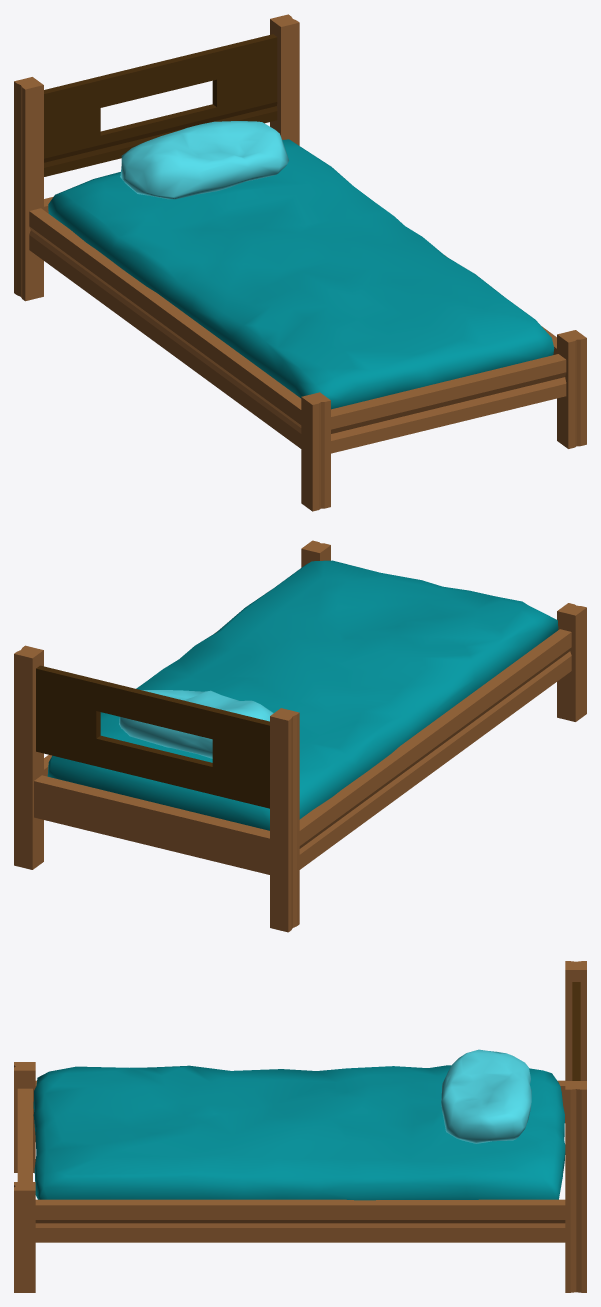
Rendered from bed.glb.
3 renders of one model, top to bottom at view 1: azimuth 30°, elevation 25°; view 2: azimuth 150°, elevation 25°; view 3: azimuth 270°, elevation 25°, orthographic. The views are drawn at different scales.
Parts seen in each view (by area): view 1: Colchao-material, Armacao-material, Armacao2-material, Travesseiro-material; view 2: Colchao-material, Armacao-material, Armacao2-material, Travesseiro-material; view 3: Colchao-material, Armacao-material, Travesseiro-material, Armacao2-material.
Part boxes in pixels (x1,y1,x2,y2): Colchao-material: [48, 139, 554, 409]; Armacao-material: [14, 14, 586, 511]; Armacao2-material: [44, 34, 277, 176]; Travesseiro-material: [120, 121, 288, 199]; Colchao-material: [47, 560, 558, 830]; Armacao-material: [14, 540, 586, 932]; Armacao2-material: [36, 665, 269, 808]; Travesseiro-material: [119, 690, 273, 758]; Colchao-material: [33, 1065, 565, 1200]; Armacao-material: [14, 961, 586, 1292]; Travesseiro-material: [441, 1049, 531, 1143]; Armacao2-material: [572, 982, 580, 1080].
Bounding box in the file's own units: 6.92 × 5.1 × 13.04.
